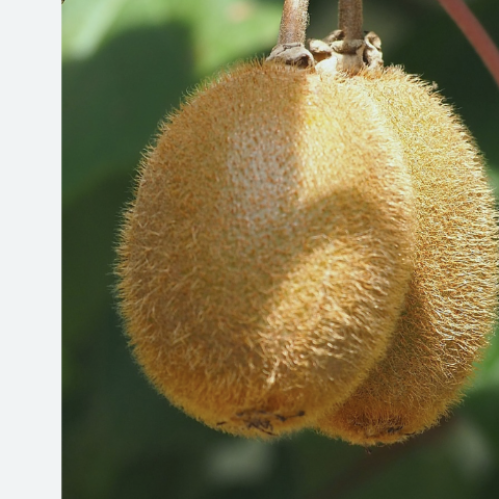kiwi: (113, 32, 415, 470)
